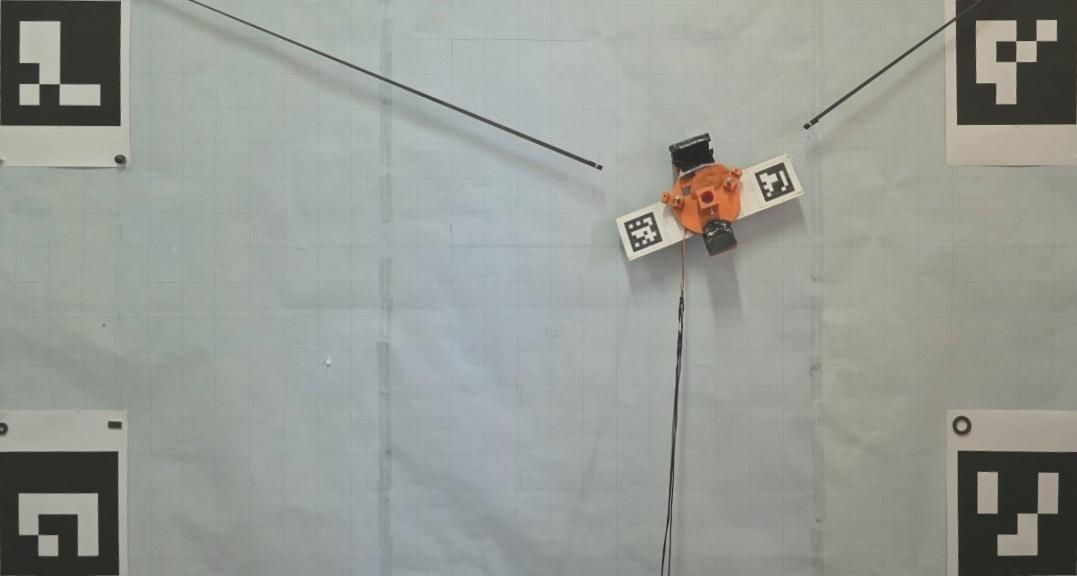robot: (659, 133, 744, 258)
